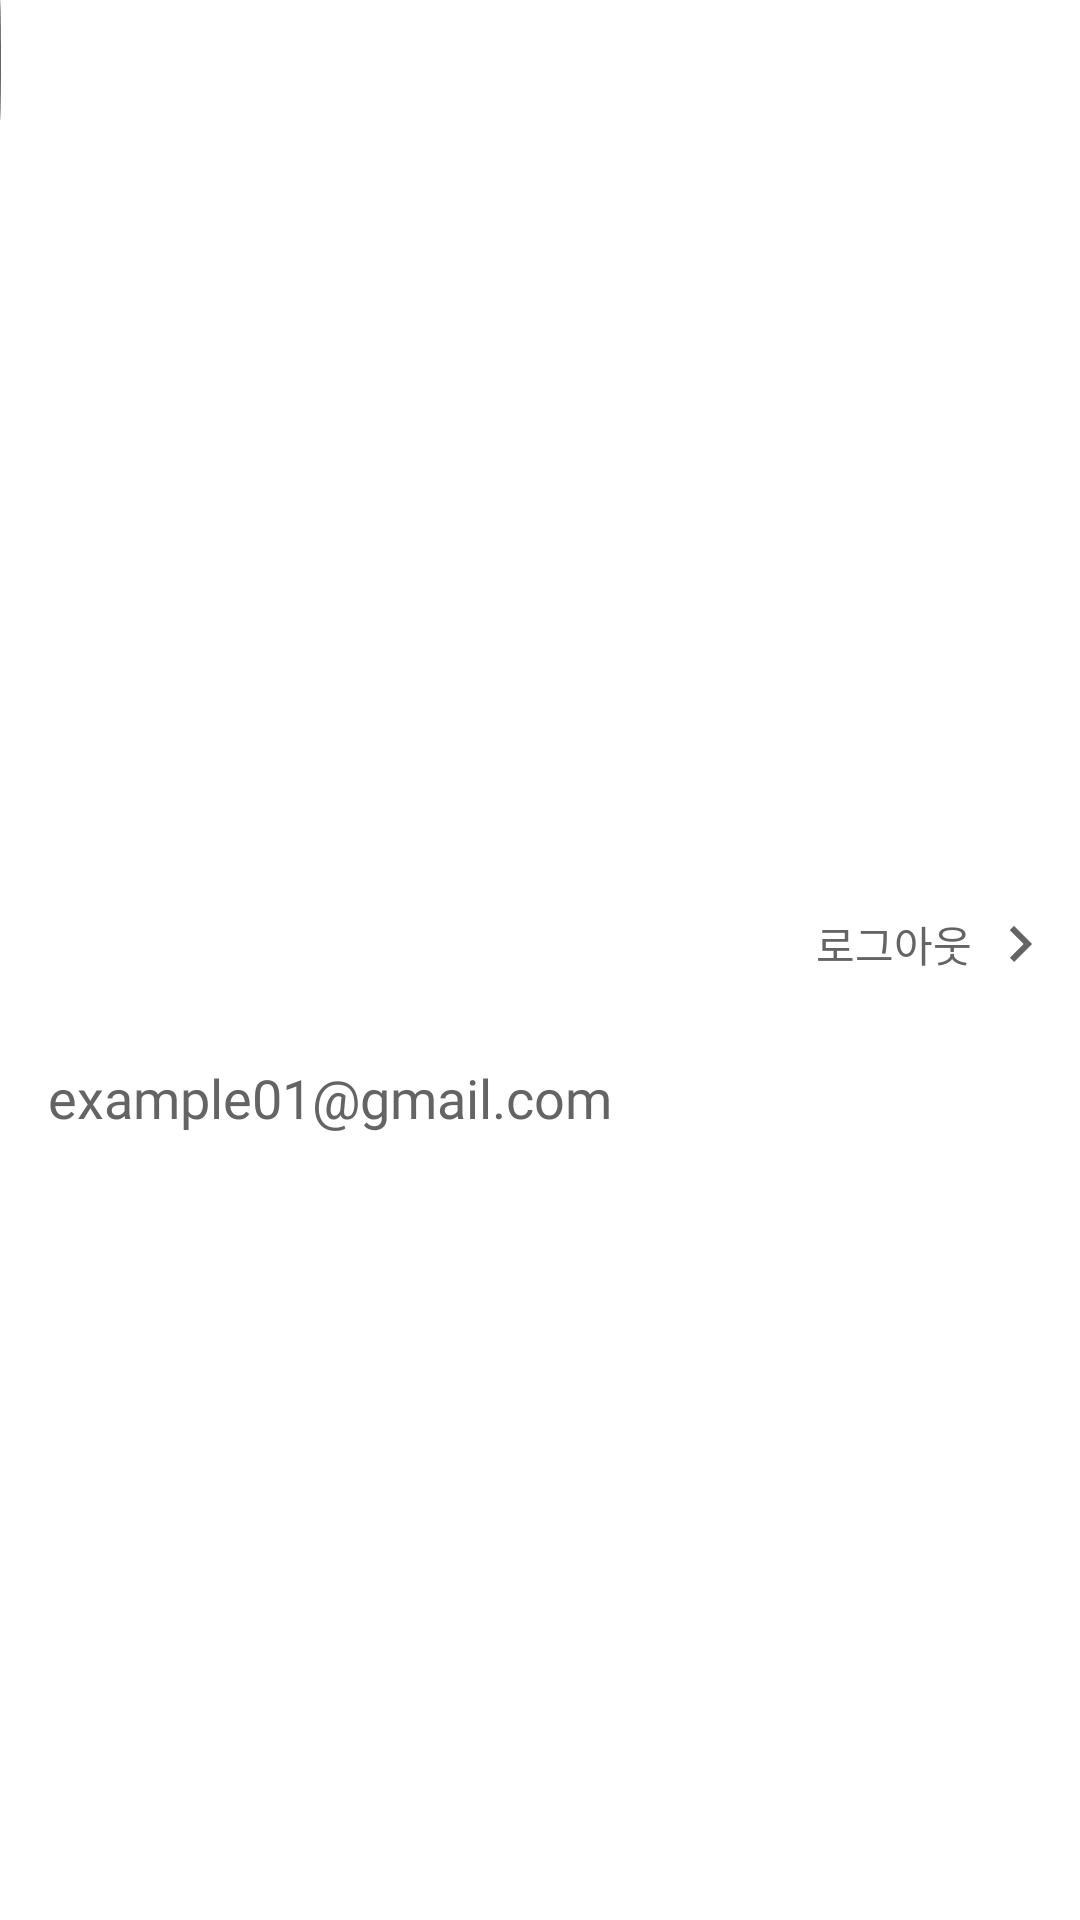

Point at icon controls on the screen. Image size 1080 x 1920, points as (x,y).
keyboard arrow right: (1021,944)
